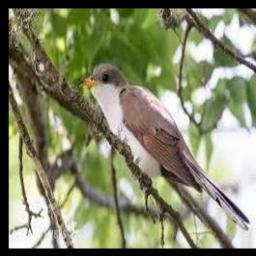Cuckoo: (76, 65, 250, 231)
